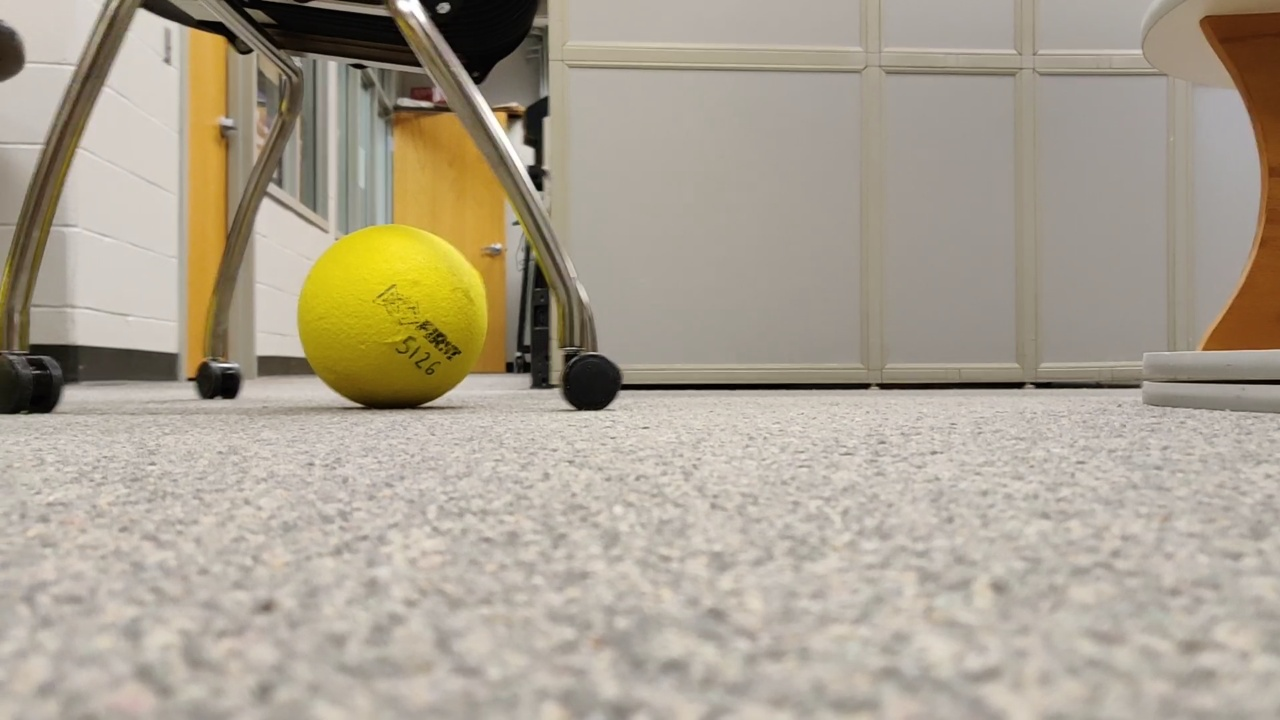Ball: (300, 227, 483, 412)
